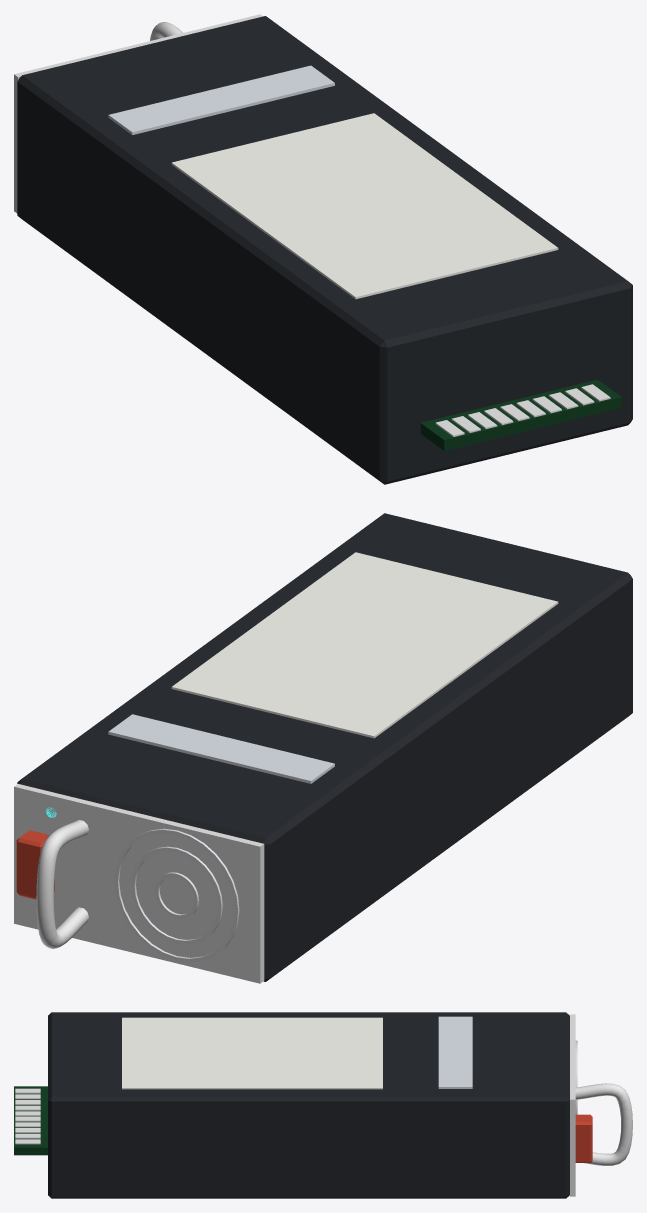
The model's file is hw_psu_900w_plat.glb.
3 views of the same model, one above another, from view 1: azimuth 30°, elevation 25°; view 2: azimuth 150°, elevation 25°; view 3: azimuth 270°, elevation 25° (orthographic). The views are drawn at different scales.
Visible parts, largest first — view 1: Body; view 2: Body; view 3: Body.
Boxes of the visible parts, x1,y1,x2,y2 form: Body: [14, 14, 632, 484]; Body: [14, 513, 632, 983]; Body: [14, 1012, 632, 1198].
Bounding box in the file's own units: 0.0735 × 0.041 × 0.2193.
